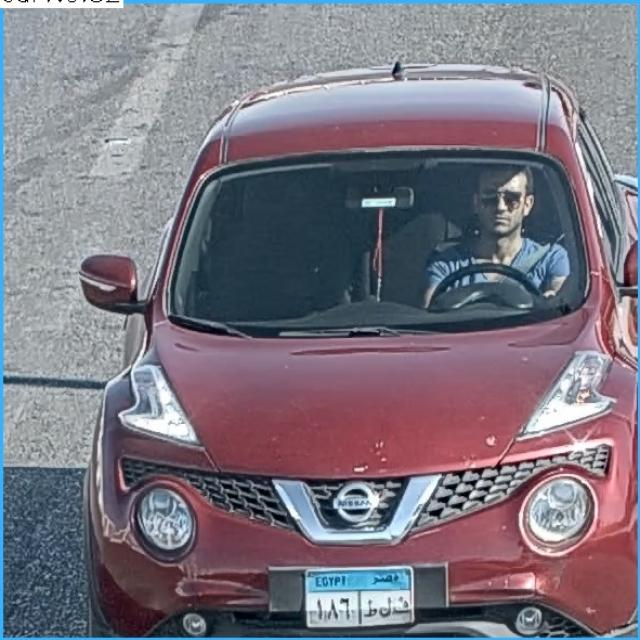windshield: (164, 167, 588, 316)
